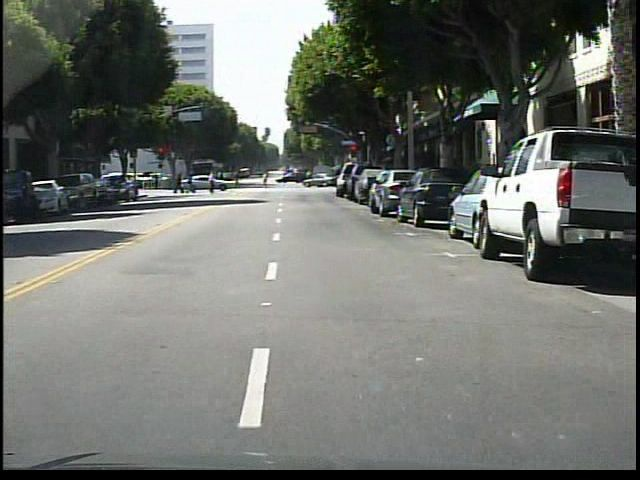person: (207, 167, 227, 196)
